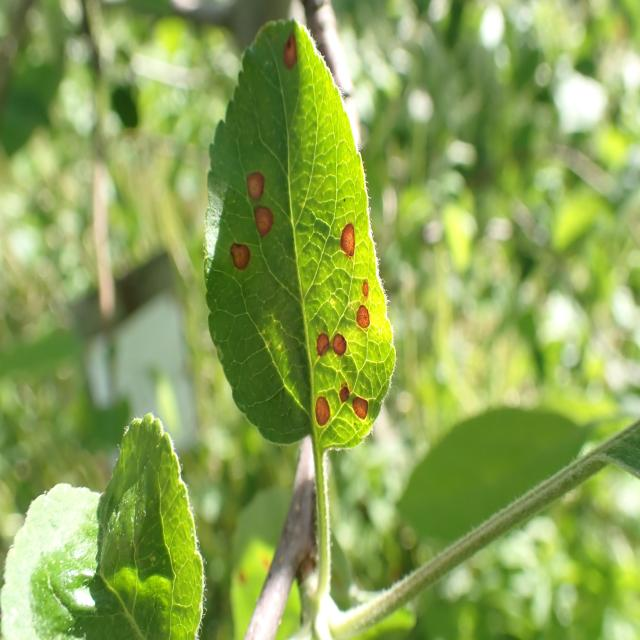Black Rot: (262, 8, 304, 81), (248, 202, 287, 264), (352, 268, 378, 352), (236, 156, 276, 210), (222, 237, 260, 285), (312, 318, 351, 364), (334, 202, 358, 276), (350, 394, 378, 439), (313, 391, 337, 433), (333, 380, 357, 406)
